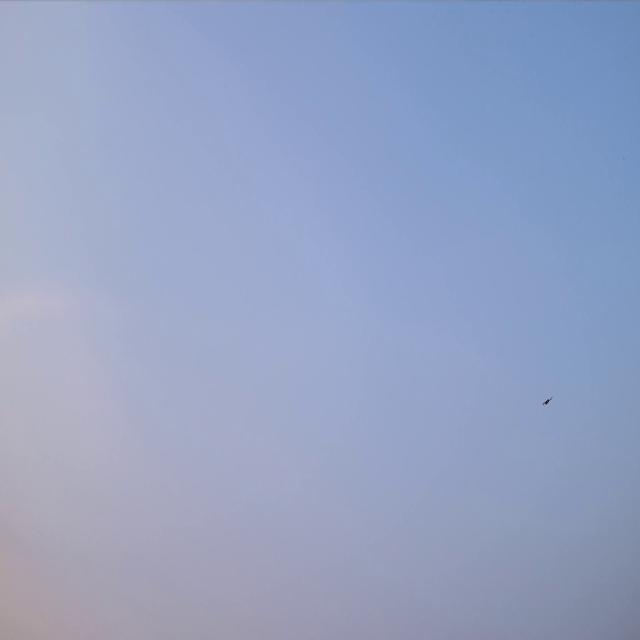UAV: (541, 396, 553, 406)
